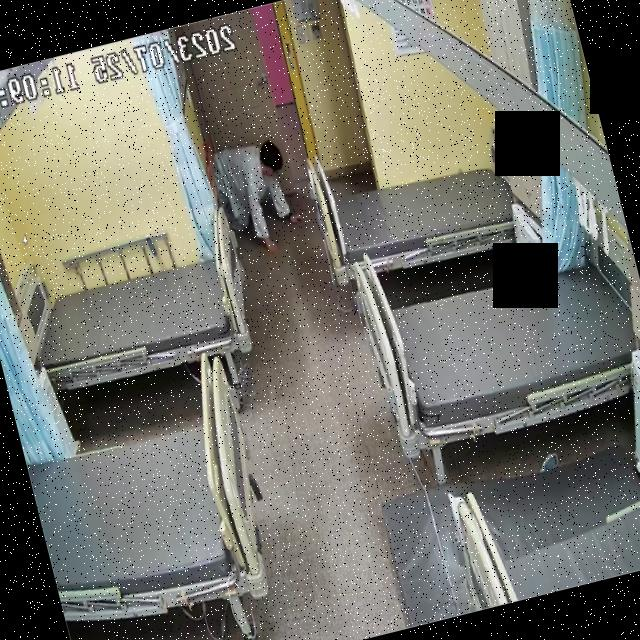bed: (10, 348, 284, 639), (360, 243, 640, 455), (7, 231, 263, 403), (314, 144, 522, 285)
fall: (206, 135, 314, 271)
patient: (205, 134, 316, 271)
